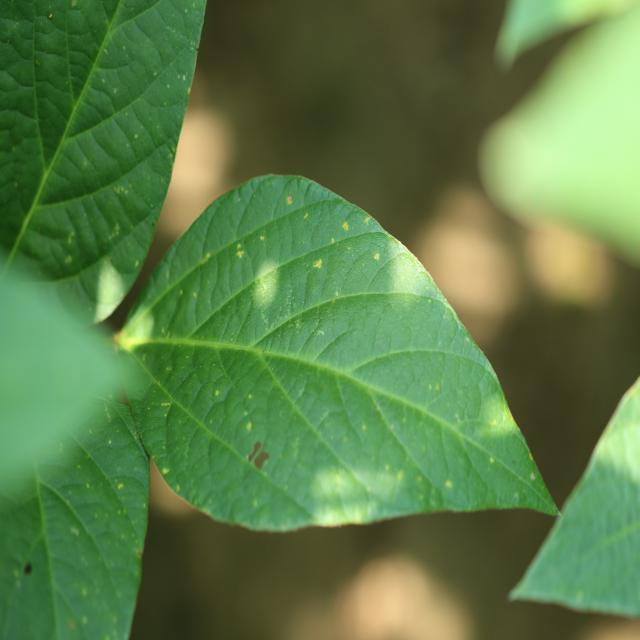Soybean: (0, 0, 559, 640)
downey_mildew: (240, 10, 396, 134), (546, 43, 638, 223), (319, 553, 468, 640), (283, 204, 361, 317), (480, 108, 550, 219), (222, 392, 293, 474), (207, 228, 290, 294), (388, 362, 460, 435), (29, 472, 59, 637), (0, 102, 46, 206), (311, 461, 375, 515), (151, 42, 200, 107), (108, 177, 153, 228), (0, 76, 42, 124), (92, 261, 124, 323), (596, 512, 640, 553), (127, 396, 151, 462), (613, 373, 639, 433), (511, 569, 546, 605), (120, 325, 155, 355), (116, 375, 133, 414), (546, 495, 562, 517), (114, 184, 130, 196), (506, 408, 515, 422), (104, 404, 111, 422), (634, 381, 640, 401), (24, 562, 33, 575), (576, 589, 584, 601), (70, 526, 79, 536), (286, 193, 293, 205), (445, 479, 453, 488), (342, 221, 349, 231), (397, 470, 404, 479), (236, 250, 243, 259), (416, 475, 423, 484), (65, 255, 72, 264), (81, 587, 87, 597), (70, 620, 76, 630), (246, 421, 252, 430), (82, 615, 88, 624), (138, 549, 144, 558), (170, 160, 175, 170), (514, 491, 519, 501), (117, 483, 124, 490), (162, 468, 169, 475), (385, 463, 390, 472), (161, 402, 170, 407), (16, 580, 21, 589), (204, 254, 210, 261), (364, 217, 370, 224), (464, 336, 470, 343), (343, 435, 349, 442), (362, 423, 367, 431), (529, 453, 534, 461), (14, 569, 19, 577), (530, 472, 535, 480), (190, 43, 195, 51), (112, 615, 117, 623), (236, 243, 242, 249), (492, 419, 497, 426), (303, 212, 308, 219), (435, 383, 440, 390), (247, 393, 252, 400), (175, 484, 180, 491), (72, 0, 77, 7), (215, 389, 219, 396), (135, 260, 139, 267), (172, 146, 176, 153), (113, 87, 117, 94), (82, 161, 87, 166), (194, 47, 199, 52), (260, 235, 264, 241), (426, 286, 430, 292), (108, 439, 112, 445), (163, 412, 167, 418), (428, 298, 432, 304), (36, 60, 40, 66), (104, 48, 108, 54), (109, 256, 113, 262), (134, 134, 138, 139), (166, 367, 170, 372), (88, 429, 92, 434), (14, 182, 18, 187), (101, 78, 105, 83), (153, 71, 157, 76), (122, 46, 126, 51), (48, 14, 52, 19), (180, 289, 183, 295), (185, 8, 188, 14), (261, 350, 265, 354), (167, 84, 170, 89), (7, 40, 9, 45)
